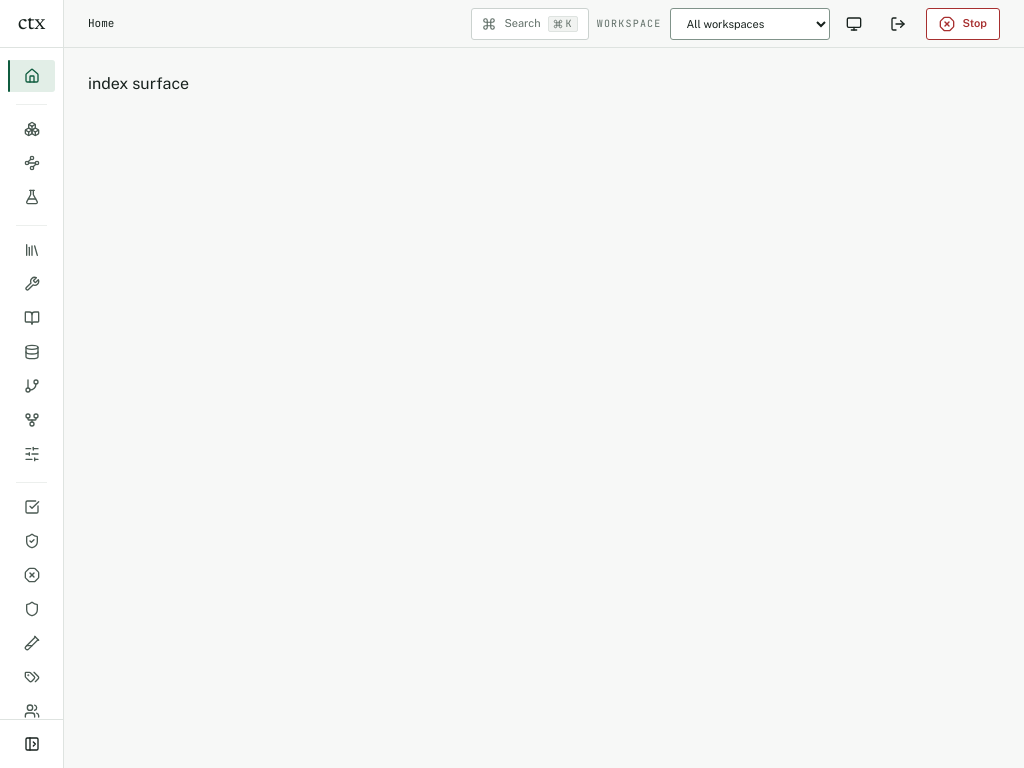
Test: ShellCommandPalette (cmd-K in the production shell) › opens the palette from the header ⌘K affordance click
The width and height of the screenshot is (1024, 768).
Expected: the link named "Agents" is shown, [24,121,40,137]
Click the button with aria-label "command palette" at (530, 24), box [471,8,589,40]
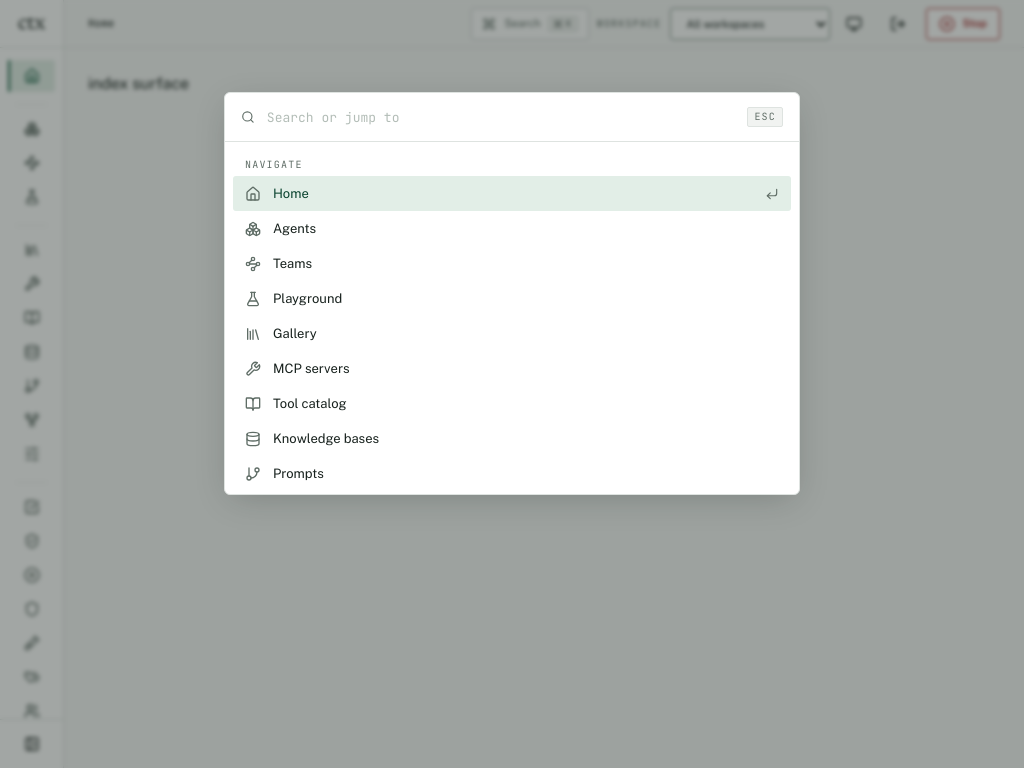
Expected: the dialog named "command palette" is shown
